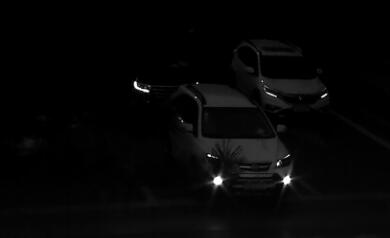car: (159, 82, 296, 191), (230, 39, 331, 119), (122, 46, 215, 99)
